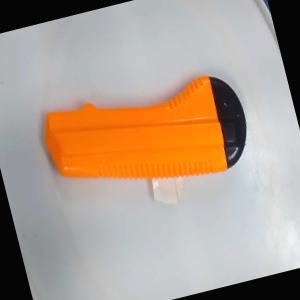estilete: (36, 64, 257, 213)
